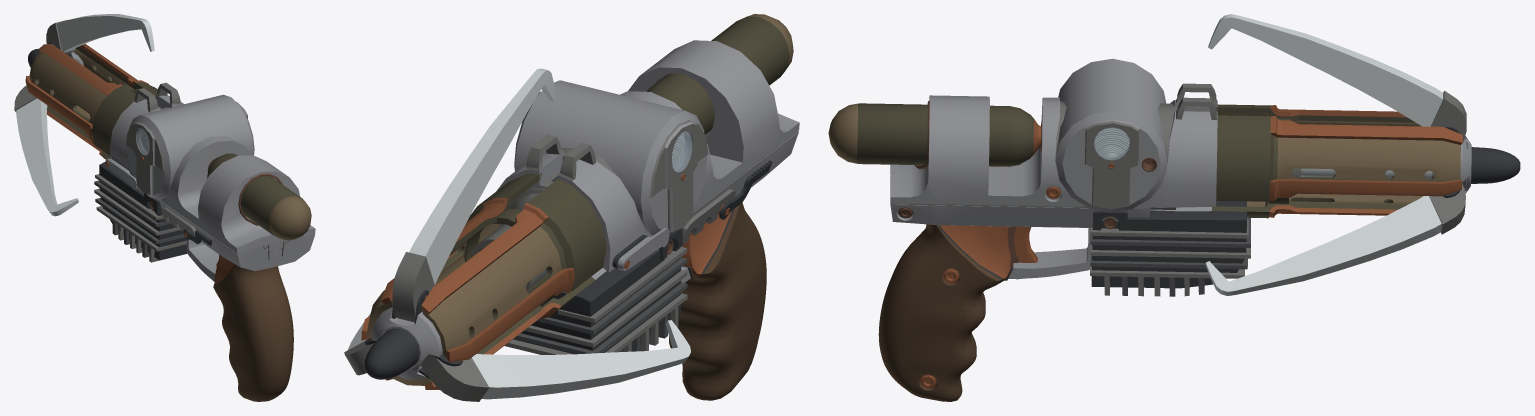
File: hookgunRedux6.fbx
The picture shows the model from 3 angles, left to right: view 1: azimuth 30°, elevation 25°; view 2: azimuth 150°, elevation 25°; view 3: azimuth 270°, elevation 25°; orthographic projection. The views are drawn at different scales.
Parts seen in each view (by area): view 1: Cylinder.002_LIGHT metall_0, Cube.001_wood_0, Cylinder.004_LIGHT metall_0, Cylinder_paint metal_0, Cube.026_metall kryk_0, Cylinder.010_metal cooper _0, Cylinder_dark paint metal_0, Cube.025_metall kryk_0, Cube_Dark metall_0, Cylinder.003_dark paint metal_0, Cube.010_main metall_0, Cylinder.003_paint metal_0 (+12 smaller); view 2: Cylinder.002_LIGHT metall_0, Cylinder.004_LIGHT metall_0, Cube.001_wood_0, Cylinder_paint metal_0, Cube.026_metall kryk_0, Cylinder.010_metal cooper _0, Cylinder_dark paint metal_0, Cube.025_metall kryk_0, Cylinder.003_dark paint metal_0, Cube_Dark metall_0, Cube.010_main metall_0, Cube.010_bottom metall _0 (+20 smaller); view 3: Cylinder.002_LIGHT metall_0, Cube.001_wood_0, Cylinder.004_LIGHT metall_0, Cylinder_paint metal_0, Cylinder_dark paint metal_0, Cylinder.010_metal cooper _0, Cube.025_metall kryk_0, Cube.009_metall kryk_0, Cylinder.003_dark paint metal_0, Cube_Dark metall_0, Cube.010_main metall_0, Cylinder.014_main metall_0 (+12 smaller).
Boxes of the visible parts, x1,y1,x2,y2 form: Cylinder.002_LIGHT metall_0: (109,94,315,271); Cube.001_wood_0: (213,265,293,401); Cylinder.004_LIGHT metall_0: (127,94,254,199); Cylinder_paint metal_0: (29,48,138,124); Cube.026_metall kryk_0: (16,98,78,216); Cylinder.010_metal cooper _0: (25,43,148,159); Cylinder_dark paint metal_0: (34,47,157,159); Cube.025_metall kryk_0: (56,14,154,51); Cube_Dark metall_0: (99,161,186,260); Cylinder.003_dark paint metal_0: (207,153,302,238); Cube.010_main metall_0: (94,174,186,251); Cylinder.003_paint metal_0: (269,196,311,240); Cylinder.002_LIGHT metall_0: (497,40,799,279); Cylinder.004_LIGHT metall_0: (514,80,707,236); Cube.001_wood_0: (669,202,766,400); Cylinder_paint metal_0: (367,224,562,385); Cube.026_metall kryk_0: (472,320,690,399); Cylinder.010_metal cooper _0: (361,197,574,389); Cylinder_dark paint metal_0: (382,173,606,381); Cube.025_metall kryk_0: (409,68,556,284); Cylinder.003_dark paint metal_0: (646,16,789,134); Cube_Dark metall_0: (513,238,681,354); Cube.010_main metall_0: (504,246,687,354); Cube.010_bottom metall _0: (514,257,687,354); Cylinder.002_LIGHT metall_0: (890,95,1217,227); Cube.001_wood_0: (878,224,1004,401); Cylinder.004_LIGHT metall_0: (1055,58,1167,212); Cylinder_paint metal_0: (1217,113,1460,207); Cylinder_dark paint metal_0: (1212,104,1434,218); Cylinder.010_metal cooper _0: (1269,105,1462,217); Cube.025_metall kryk_0: (1208,14,1443,126); Cube.009_metall kryk_0: (1205,196,1441,295); Cylinder.003_dark paint metal_0: (856,103,1033,166); Cube_Dark metall_0: (1091,201,1246,288); Cube.010_main metall_0: (1090,219,1250,278); Cylinder.014_main metall_0: (1084,121,1139,209).
Size of the model in its own units: 501 by 734 by 1203.
